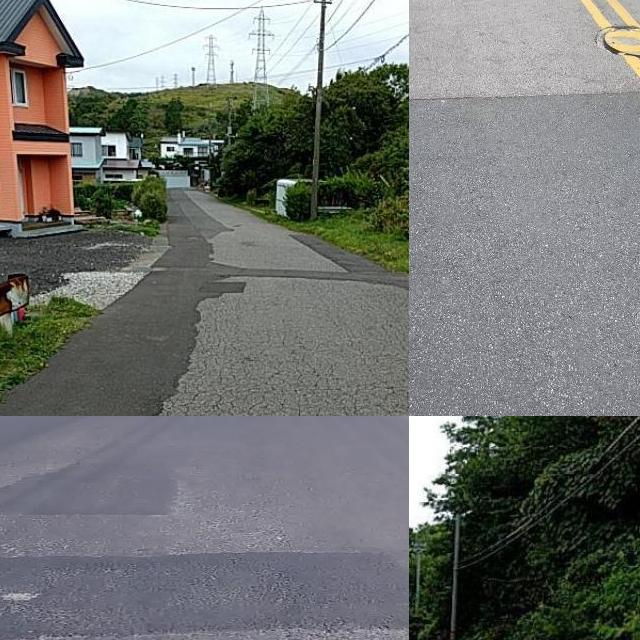Sambungan: (409, 94, 640, 416), (0, 221, 257, 416), (0, 554, 409, 640)
